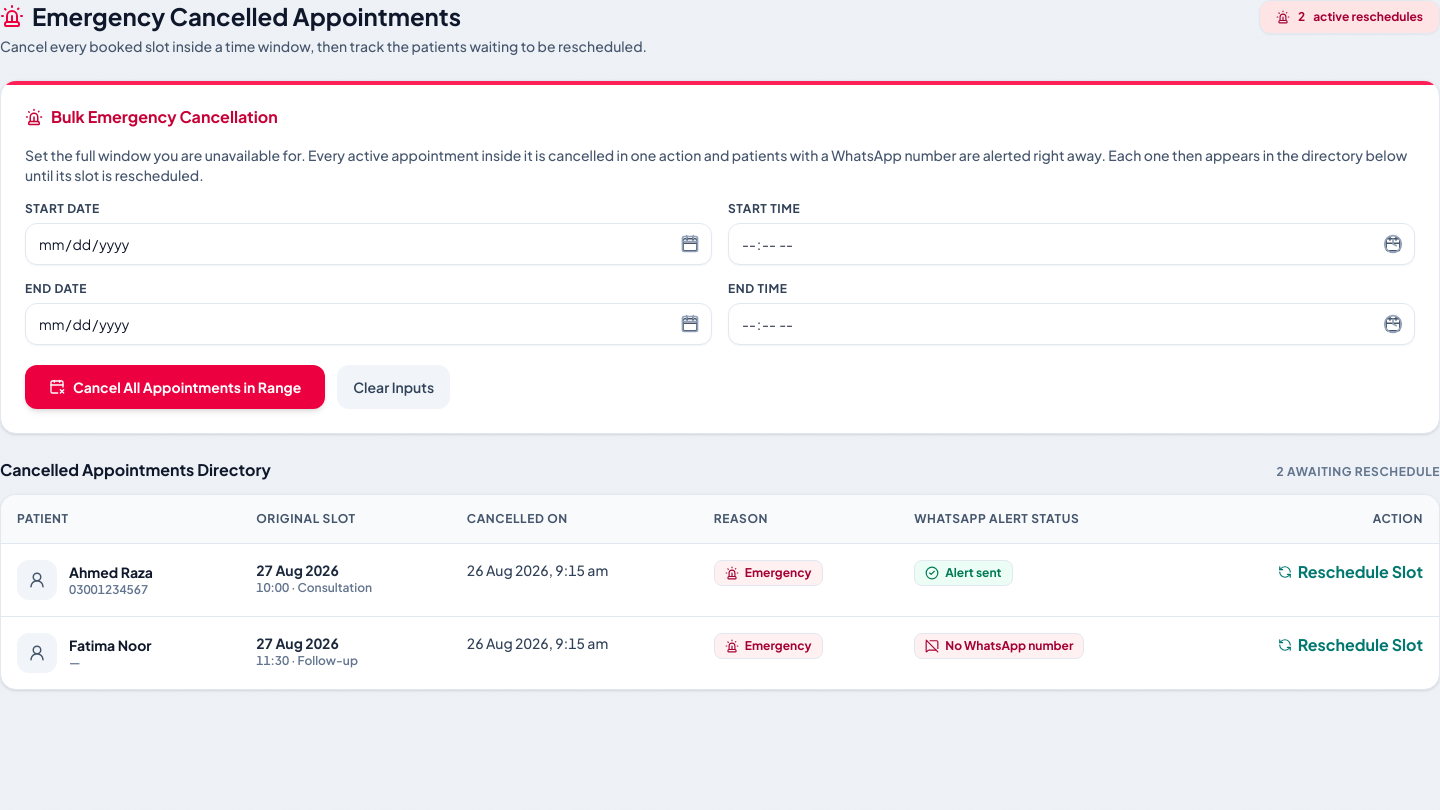
Test: bulk emergency cancellation control › aborts without posting when the doctor keeps the appointments
The width and height of the screenshot is (1440, 810).
Type "2026-08-27" into the date field labelled "Start Date". click: (368, 244)
box: [25, 223, 712, 265]
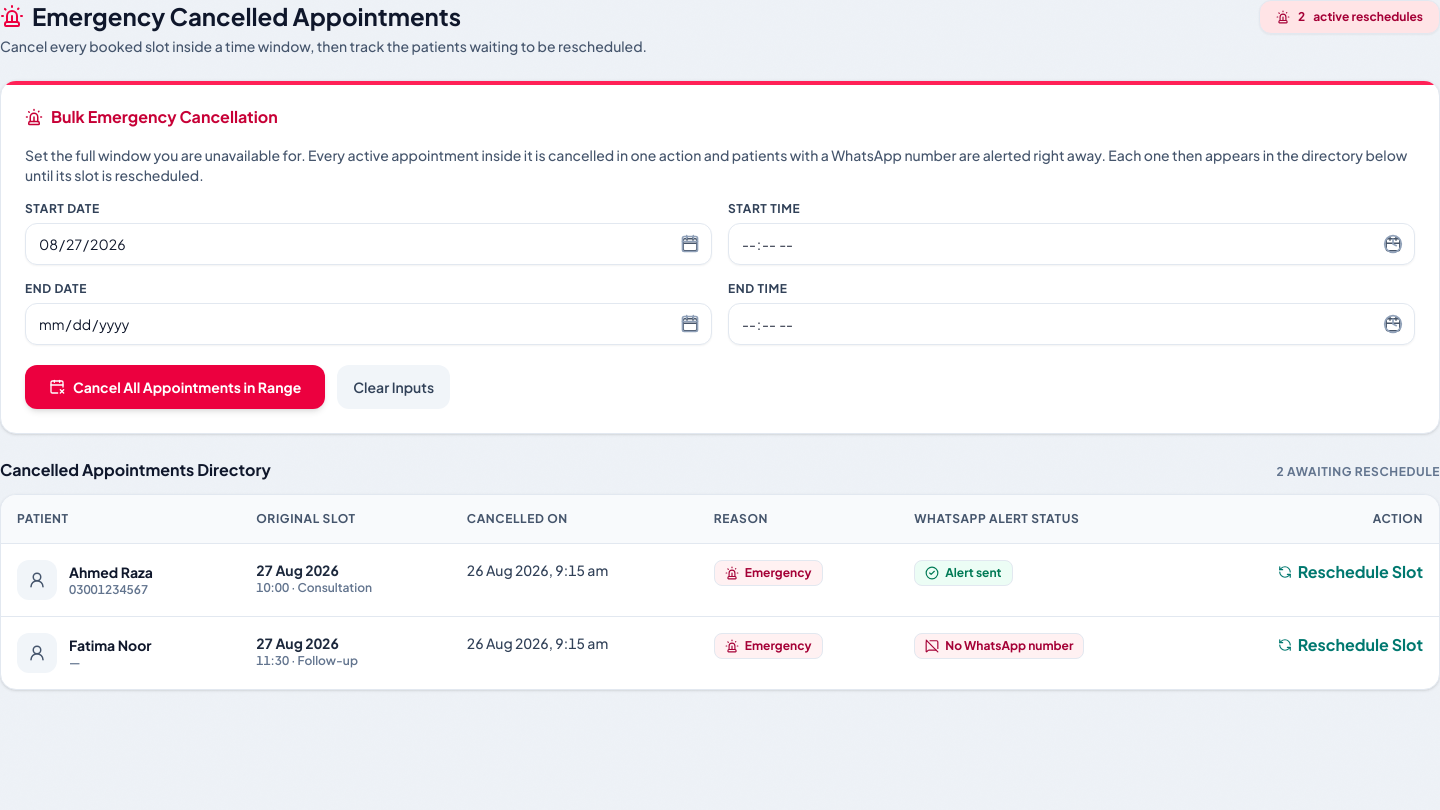
Type "09:00" into the time field labelled "Start Time". click: (1072, 244)
box: [728, 223, 1415, 265]
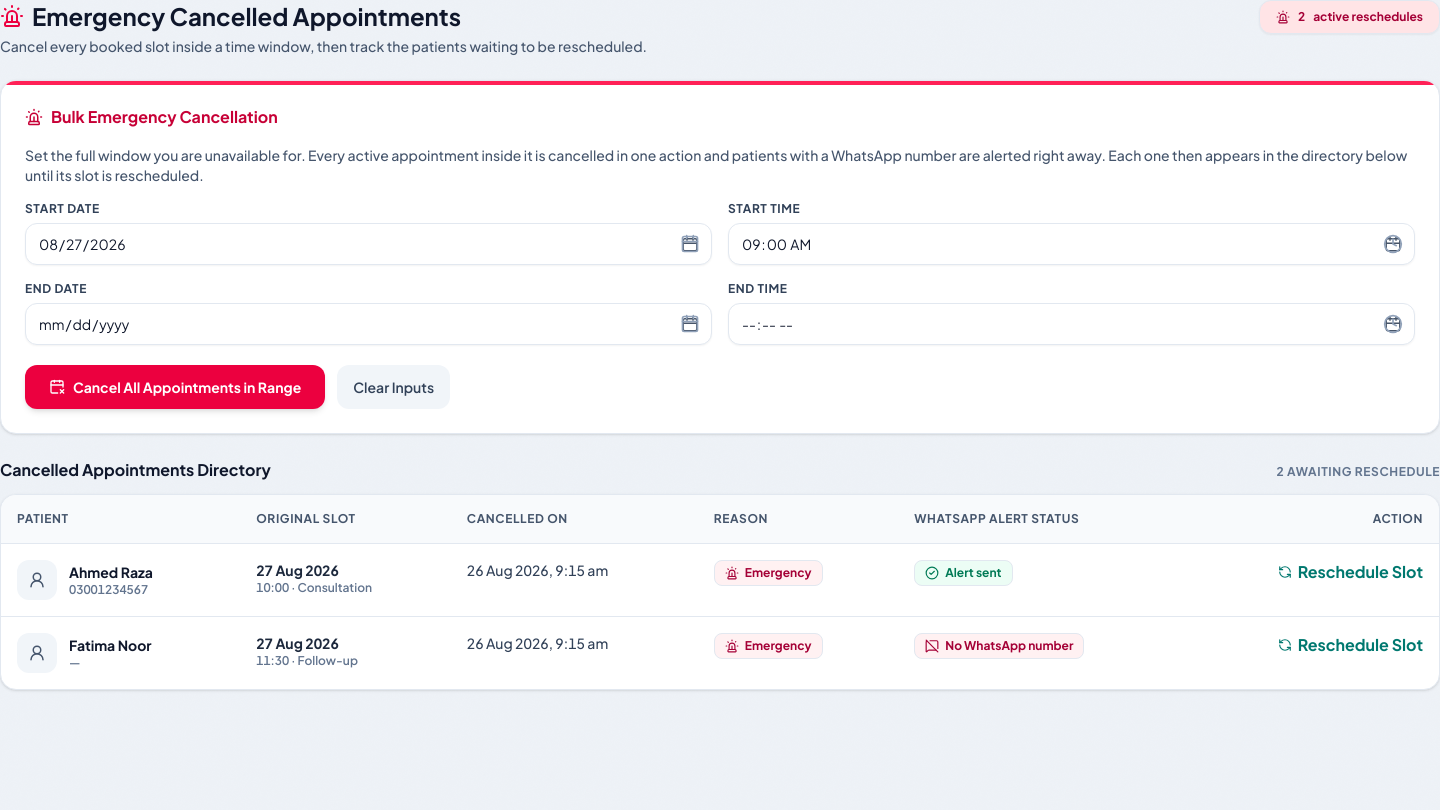
Type "2026-08-27" into the date field labelled "End Date". click: (368, 324)
box: [25, 303, 712, 345]
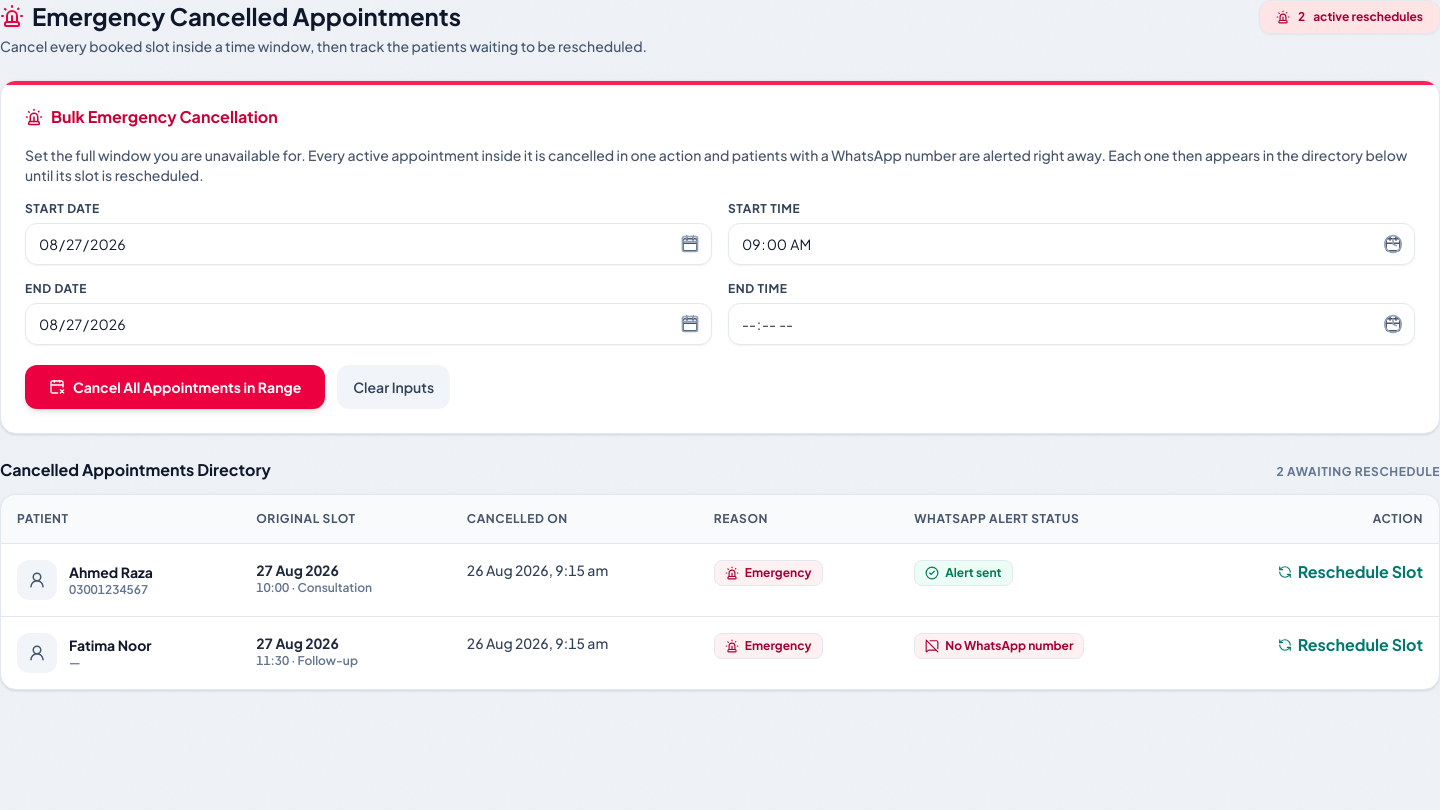
Type "13:00" into the time field labelled "End Time". click: (1072, 324)
box: [728, 303, 1415, 345]
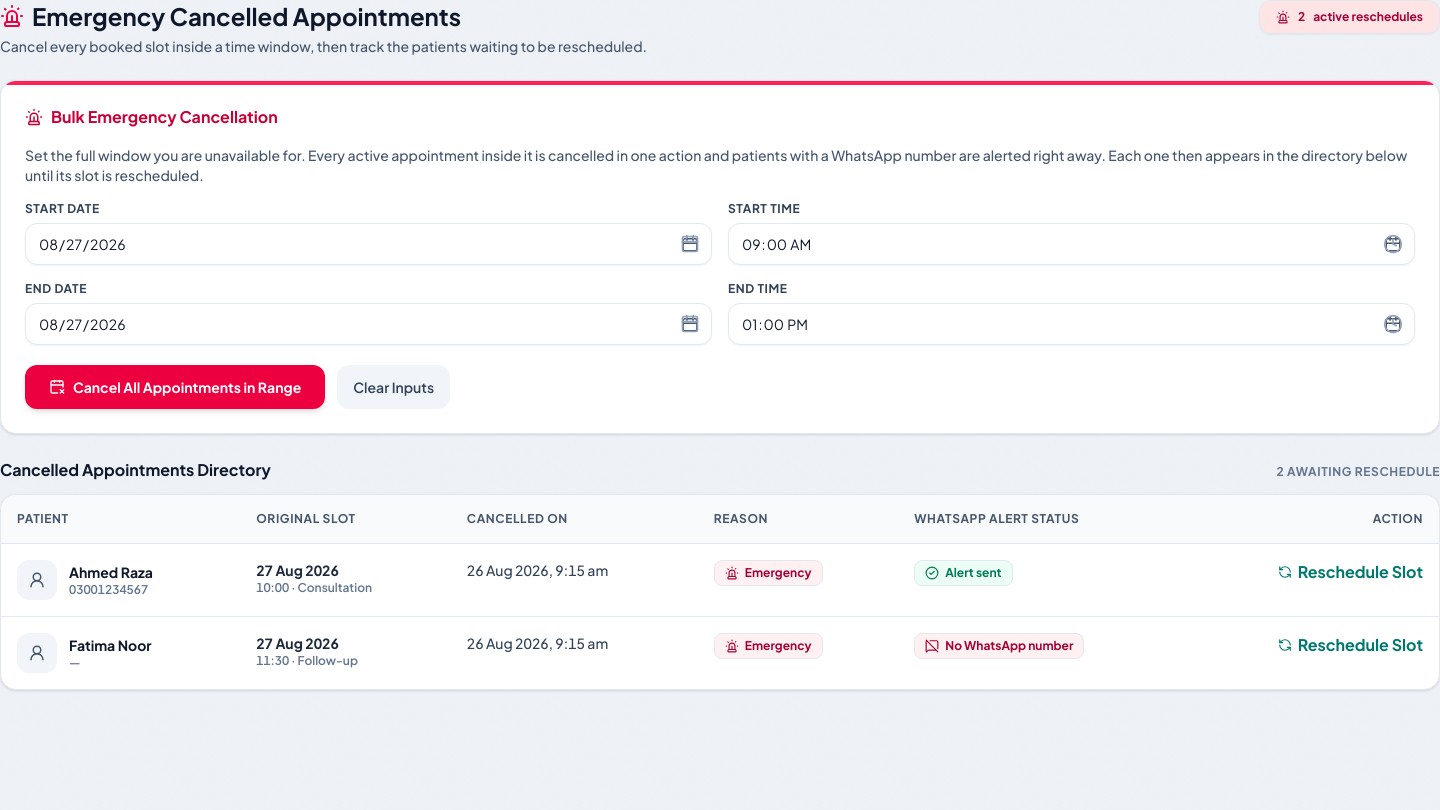
Click the button "Cancel All Appointments in Range". click: (175, 387)
box: [25, 365, 325, 409]
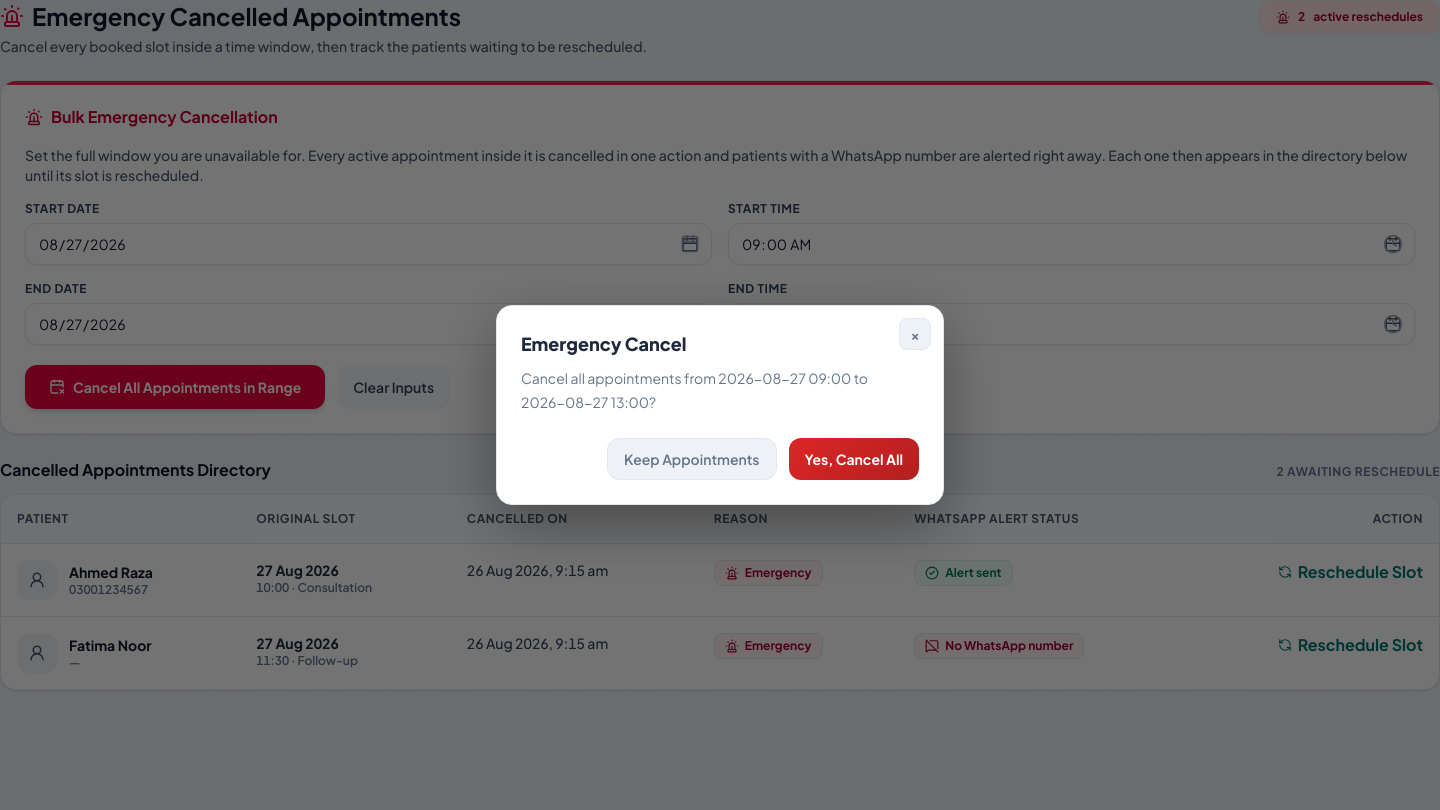
Click the button "Keep Appointments". click: (692, 459)
box: [607, 438, 776, 480]
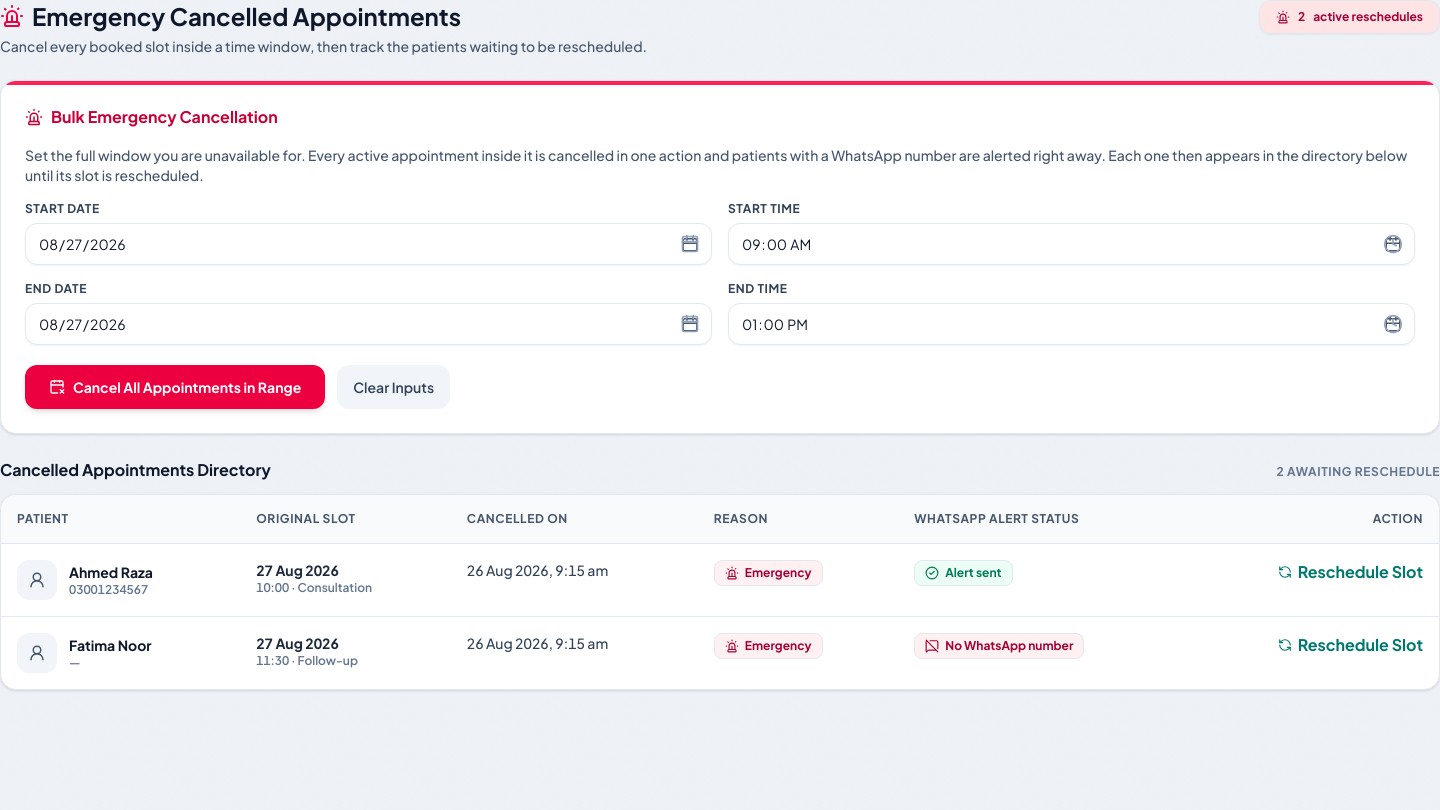
Now the dialog is gone
